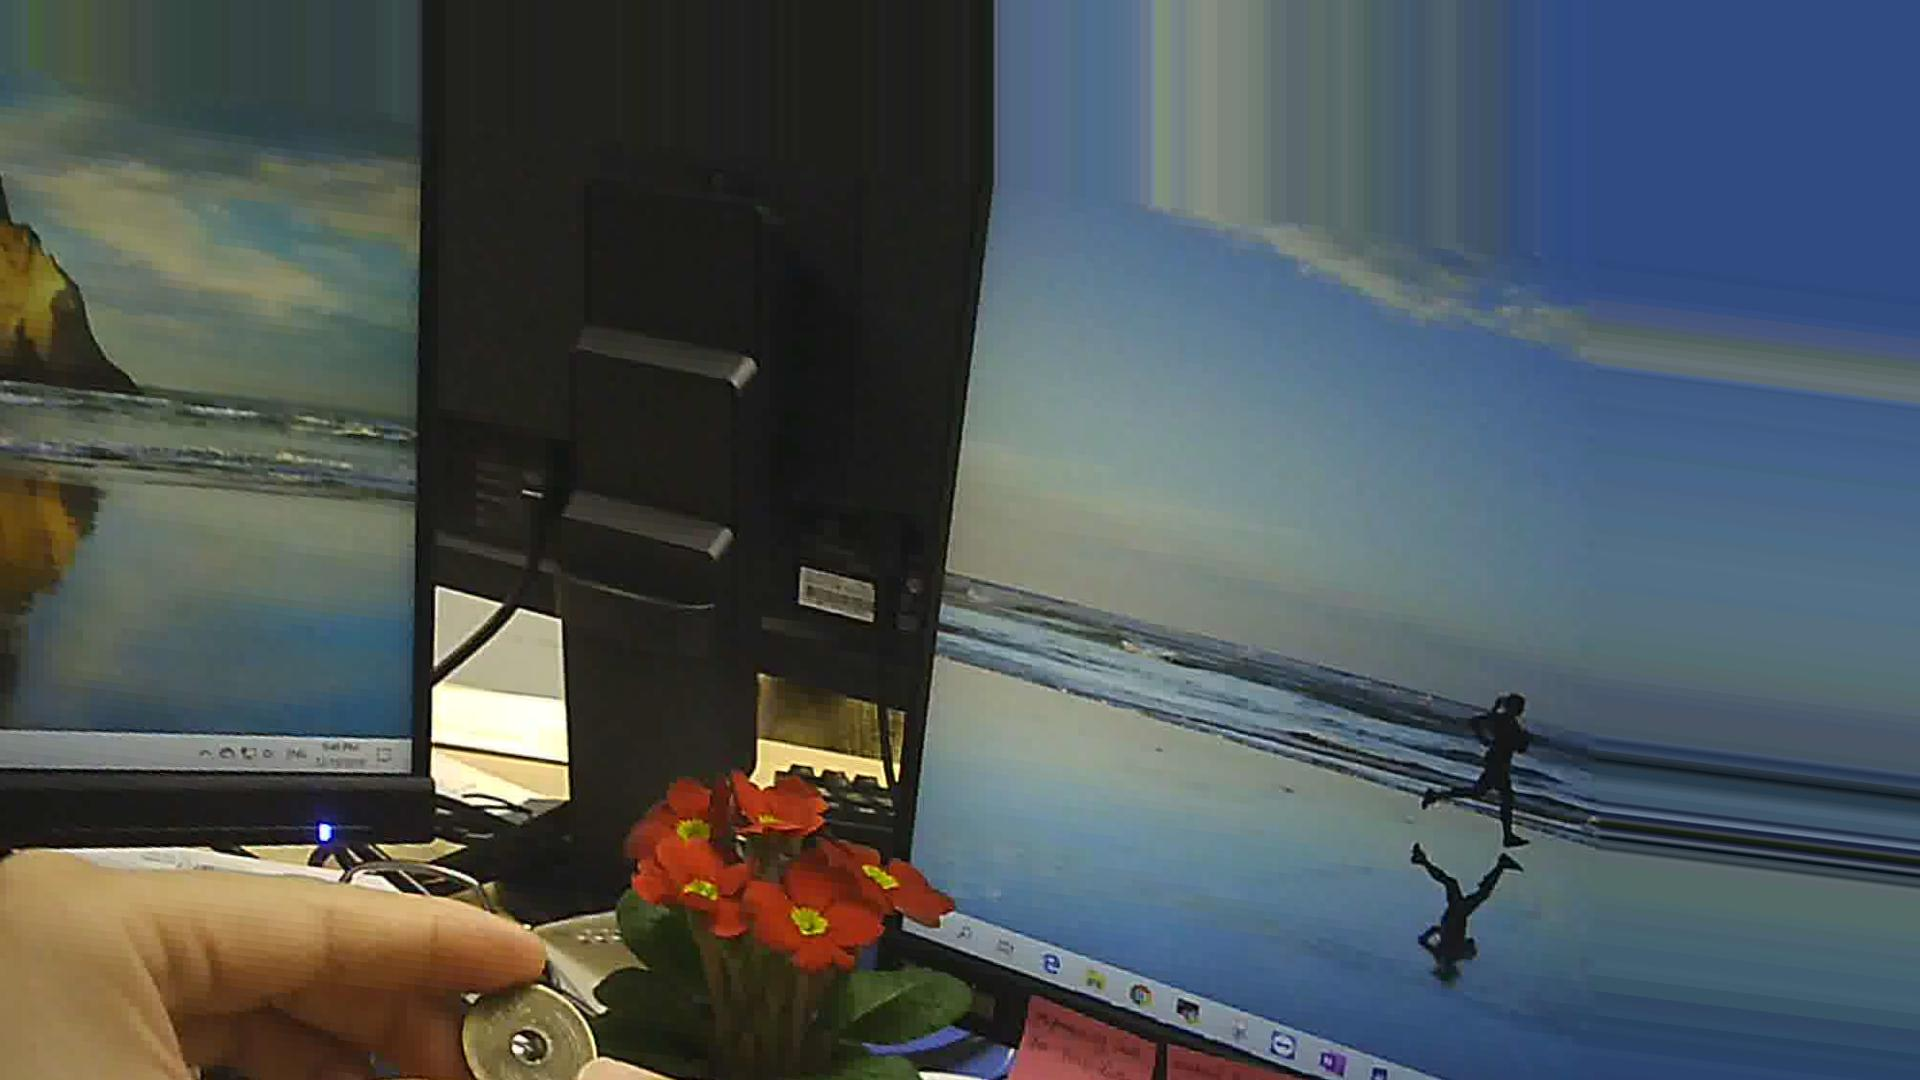5 Yen: (448, 968, 603, 1079)
